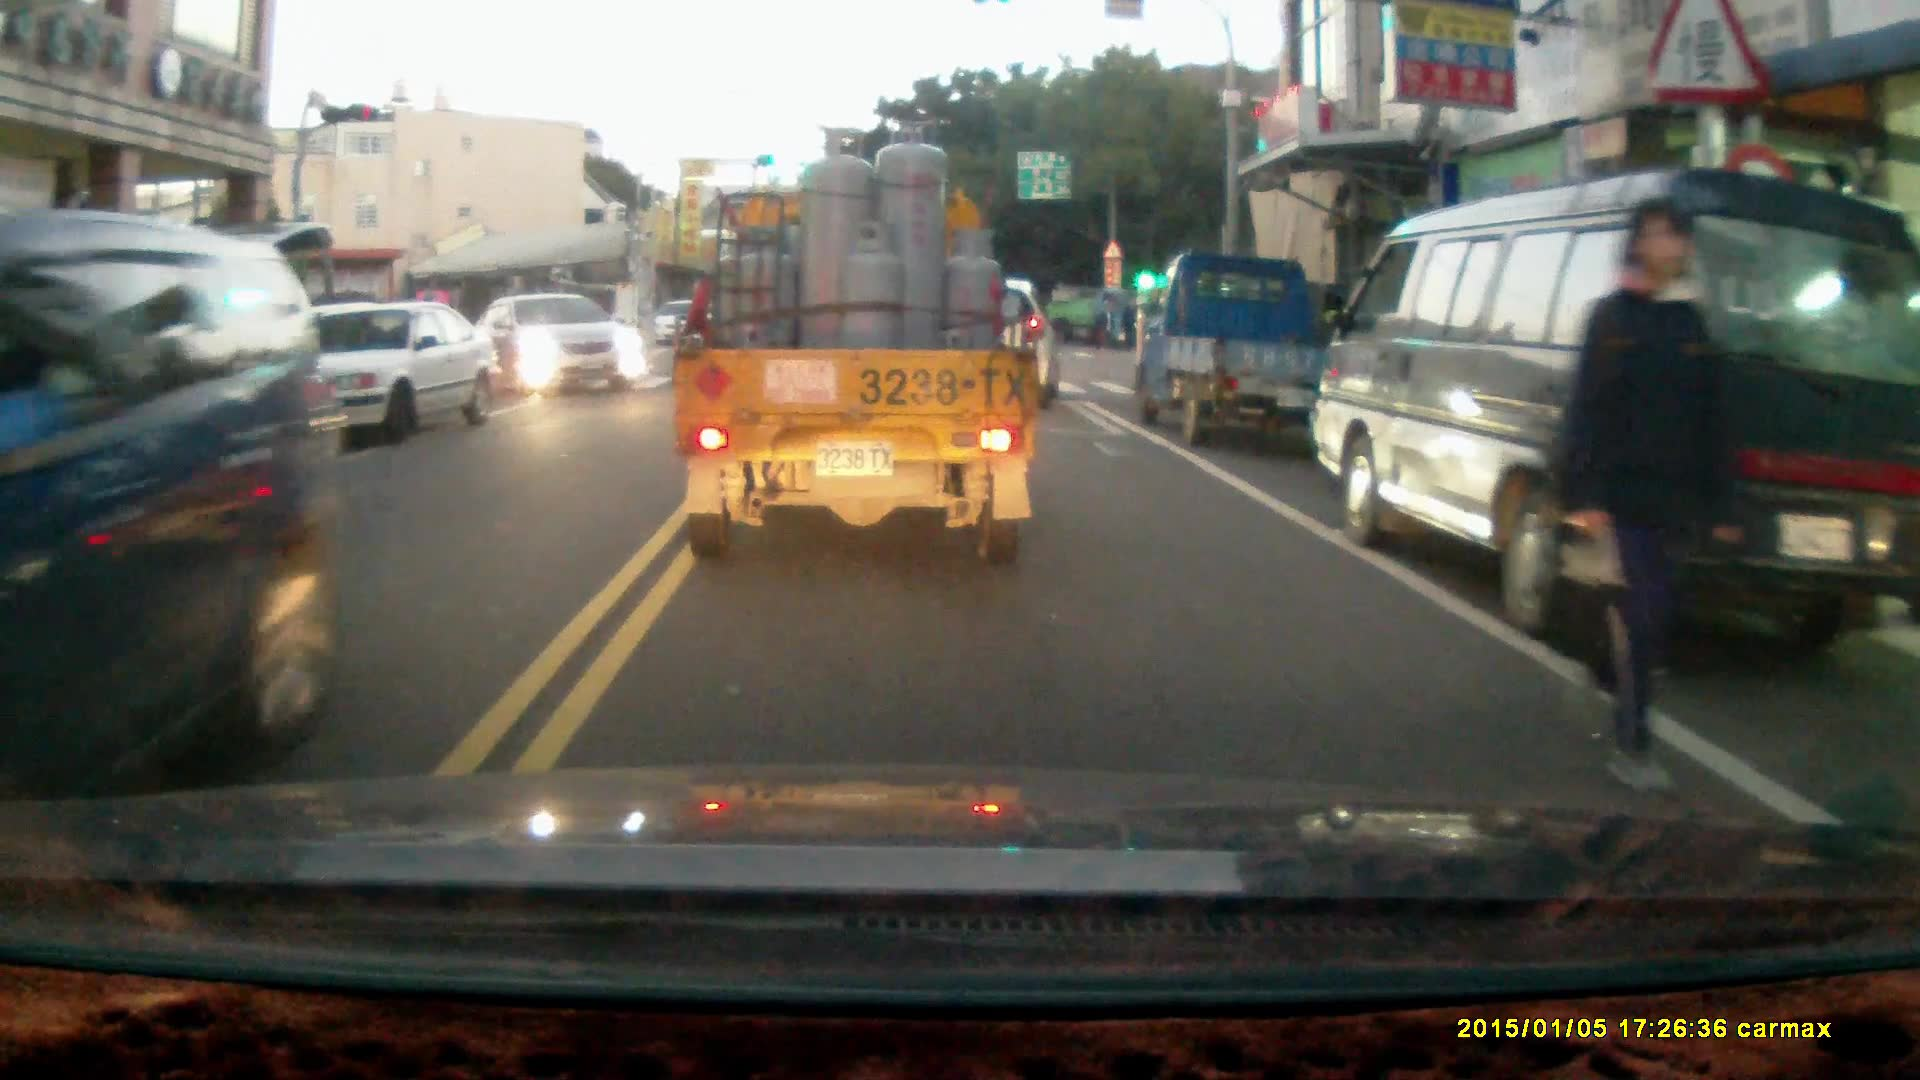pedestrian: (1566, 197, 1743, 796)
vehicle: (1309, 164, 1902, 662), (1, 219, 345, 827), (674, 124, 1044, 569), (241, 299, 509, 453), (1134, 247, 1339, 444), (893, 268, 1064, 409), (484, 292, 645, 399)
